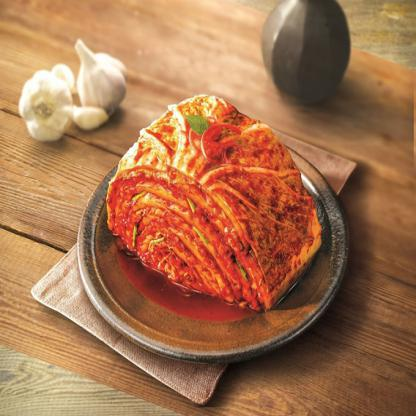kimchi: (96, 98, 348, 322)
